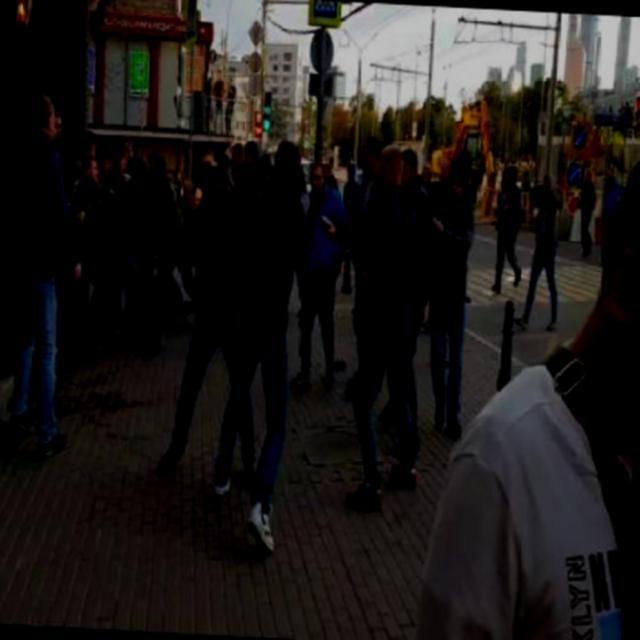fight: (160, 138, 309, 552), (90, 147, 190, 356)
non-fight: (300, 138, 437, 520)
